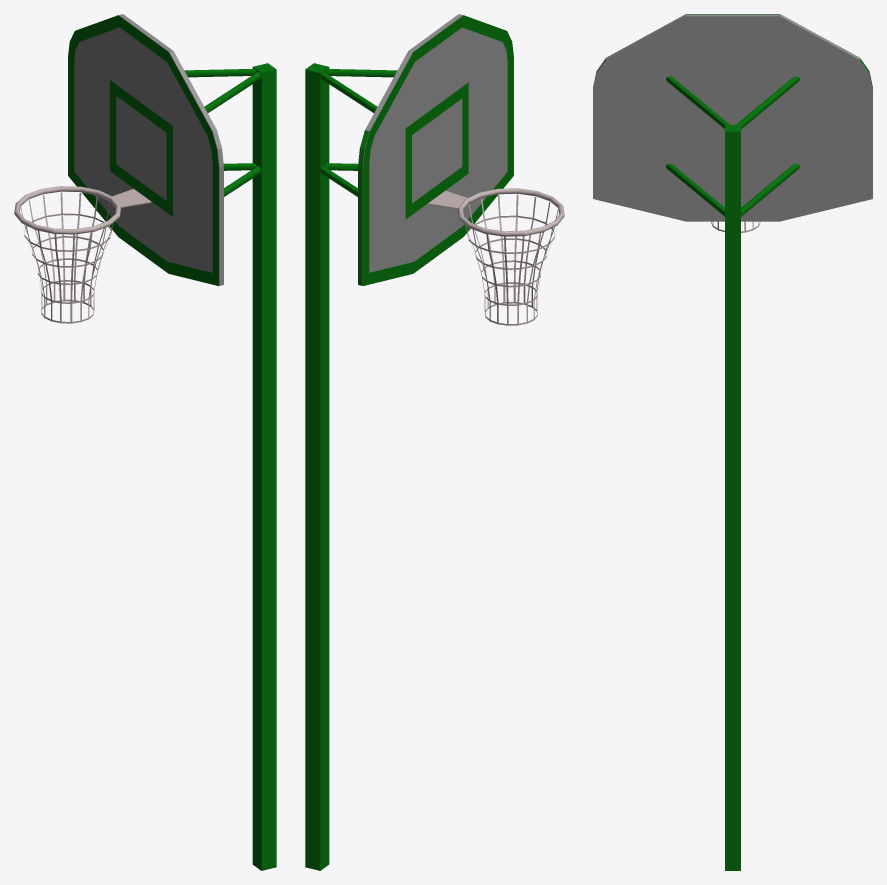
The model's file is hoop-basket.fbx.
The picture shows the model from 3 angles, left to right: view 1: azimuth 30°, elevation 25°; view 2: azimuth 150°, elevation 25°; view 3: azimuth 270°, elevation 25°; orthographic projection. The views are drawn at different scales.
Visible parts, largest first — view 1: Object01, Object03, Object02; view 2: Object01, Object03, Object02; view 3: Object03, Object01.
Part boxes in pixels (<box>): Object01: <box>68,15,276,870</box>; Object03: <box>74,14,223,285</box>; Object02: <box>14,186,151,323</box>; Object01: <box>305,15,513,870</box>; Object03: <box>362,14,507,285</box>; Object02: <box>428,188,564,325</box>; Object03: <box>593,14,872,221</box>; Object01: <box>597,14,872,870</box>.
Bounding box in the file's own units: 74034 × 243935 × 77419.
